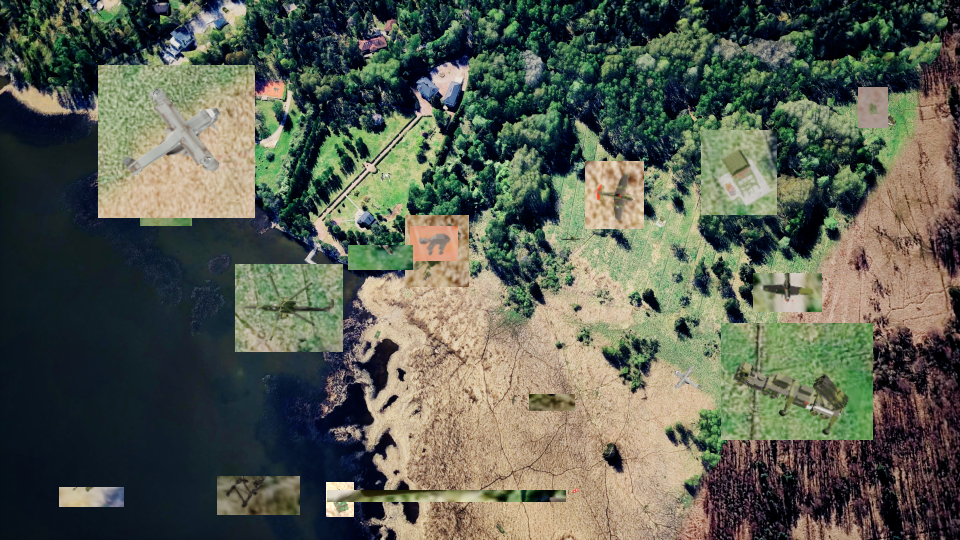condor: (98, 65, 255, 218)
hangar: (327, 490, 566, 502)
helicopter: (235, 264, 343, 352)
jammer: (326, 482, 354, 517)
jet_plane: (348, 245, 413, 270)
large_launcher: (721, 323, 873, 440)
large_tower: (217, 476, 300, 515)
medium_launcher: (529, 394, 575, 411)
medium_plane: (753, 273, 822, 312)
mine_roller: (405, 215, 469, 287)
small_launcher: (858, 87, 888, 128)
small_plane: (585, 161, 644, 229)
small_tower: (701, 130, 777, 215)
spacecraft: (140, 166, 192, 226)
ta-ta: (410, 226, 458, 261)
tank: (59, 487, 124, 507)
